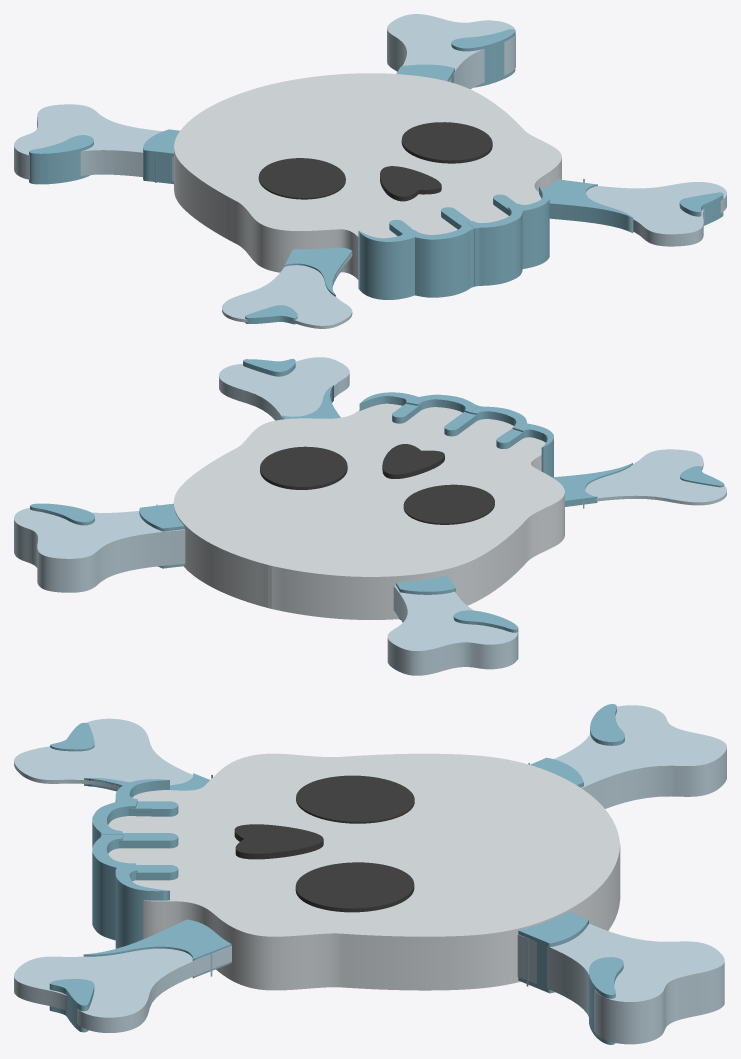
Rendered from emoji_u2620.glb.
The picture shows the model from 3 angles, top to bottom: view 1: azimuth 30°, elevation 25°; view 2: azimuth 150°, elevation 25°; view 3: azimuth 270°, elevation 25°; orthographic projection. The views are drawn at different scales.
Visible parts, largest first — view 1: emoji_u2620; view 2: emoji_u2620; view 3: emoji_u2620.
Part boxes in pixels (left/top/right/bottom): emoji_u2620: left=14, top=14, right=726, bottom=328; emoji_u2620: left=14, top=357, right=726, bottom=675; emoji_u2620: left=14, top=704, right=726, bottom=1044.
Bounding box in the file's own units: 0.034 × 0.0038 × 0.0336.
